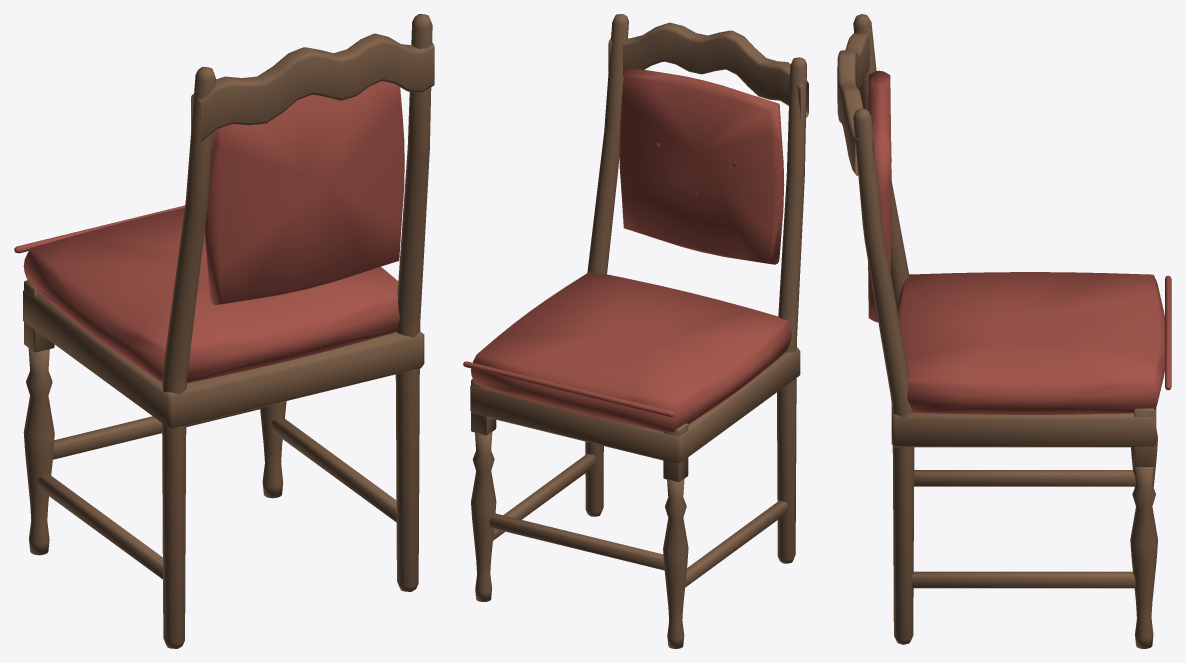
The model's file is dining_chair.glb.
3 views of the same model, side by side, from view 1: azimuth 30°, elevation 25°; view 2: azimuth 150°, elevation 25°; view 3: azimuth 270°, elevation 25° (orthographic). The views are drawn at different scales.
Parts seen in each view (by area): view 1: dining_chair; view 2: dining_chair; view 3: dining_chair.
Boxes of the visible parts, <box> form: dining_chair: <box>14,14,434,648</box>; dining_chair: <box>463,14,808,648</box>; dining_chair: <box>837,14,1171,648</box>.
Bounding box in the file's own units: 0.46 × 0.9795 × 0.5555.
